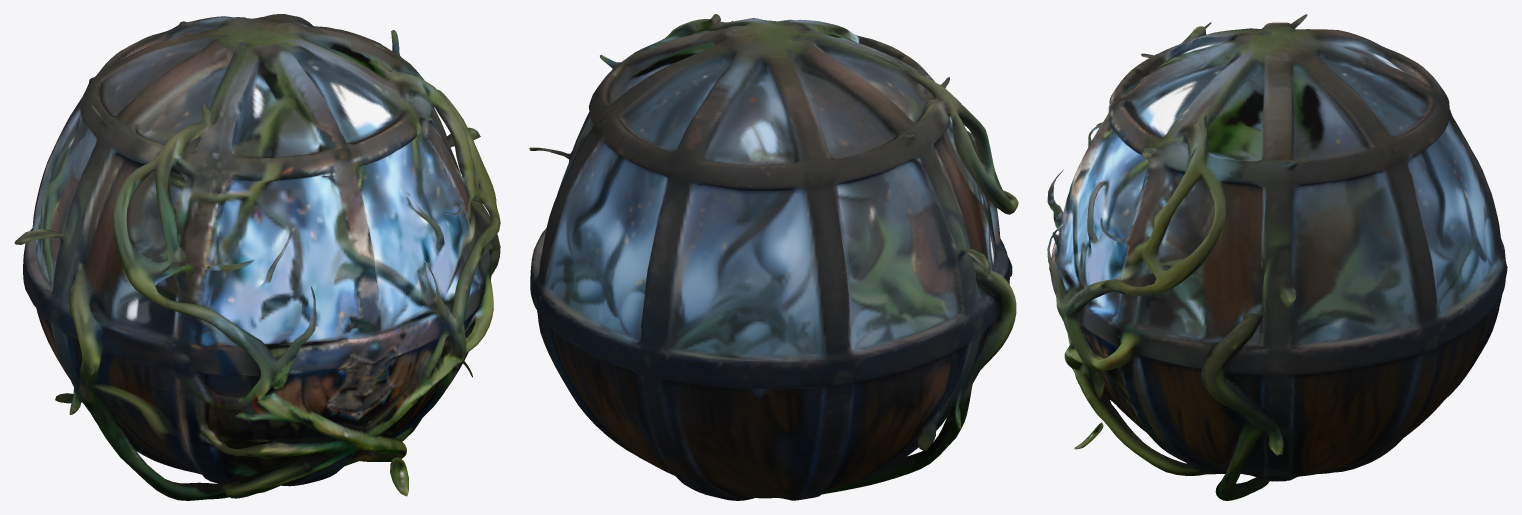
File: lod_basic_shaded.fbx
3 renders of one model, left to right at view 1: azimuth 30°, elevation 25°; view 2: azimuth 150°, elevation 25°; view 3: azimuth 270°, elevation 25°, orthographic. The views are drawn at different scales.
Parts seen in each view (by area): view 1: model_LOD0; view 2: model_LOD0; view 3: model_LOD0.
Boxes of the visible parts, x1,y1,x2,y2 form: model_LOD0: (14,14,500,500); model_LOD0: (529,14,1018,500); model_LOD0: (1047,14,1507,500).
Size of what is drawn, in the model's own units: 188 by 178 by 169.
